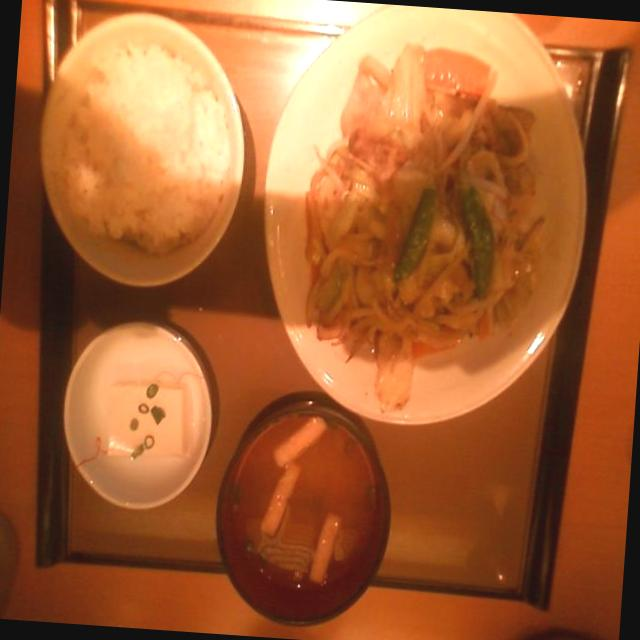Rice: (45, 24, 248, 258)
